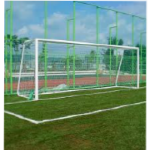goals: (15, 37, 142, 103)
